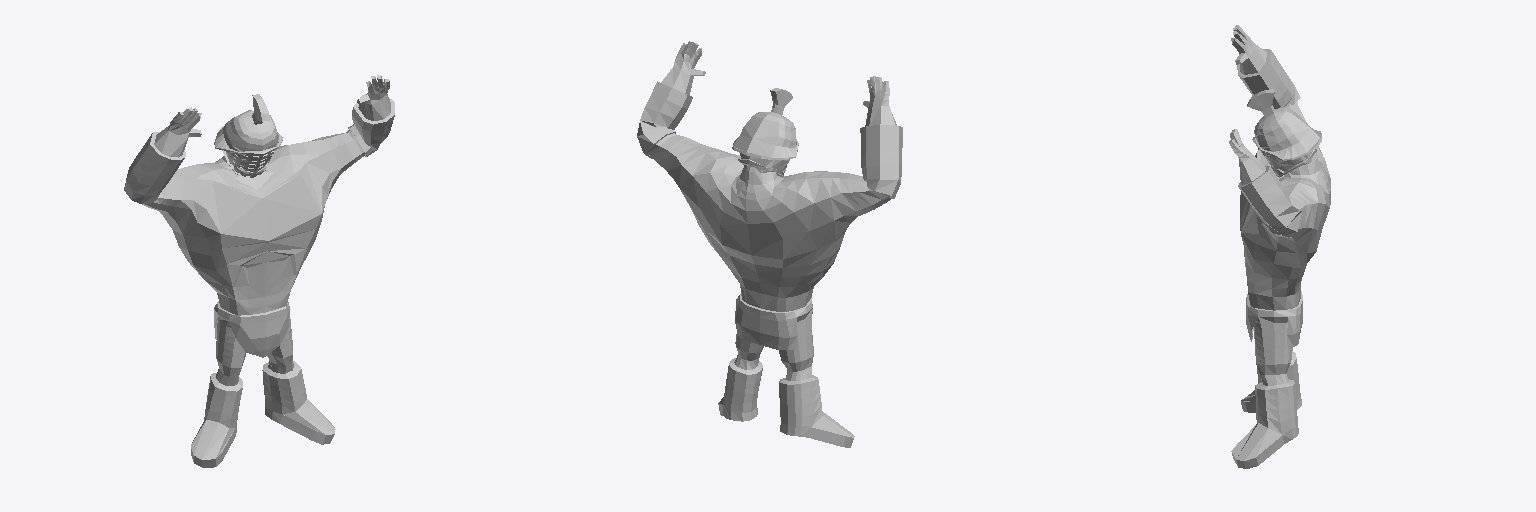
File: GladiatorCelebracion_000574.obj
3 views of the same model, side by side, from view 1: azimuth 30°, elevation 25°; view 2: azimuth 150°, elevation 25°; view 3: azimuth 270°, elevation 25° (orthographic).
Parts seen in each view (by area): view 1: Gadiador_Gladiador_H; view 2: Gadiador_Gladiador_H; view 3: Gadiador_Gladiador_H.
Boxes of the visible parts, x1=… form: Gadiador_Gladiador_H: x1=124, y1=75, x2=394, y2=467; Gadiador_Gladiador_H: x1=637, y1=41, x2=902, y2=447; Gadiador_Gladiador_H: x1=1229, y1=25, x2=1330, y2=468.
Bounding box in the file's own units: 5.9 × 8.02 × 2.01.